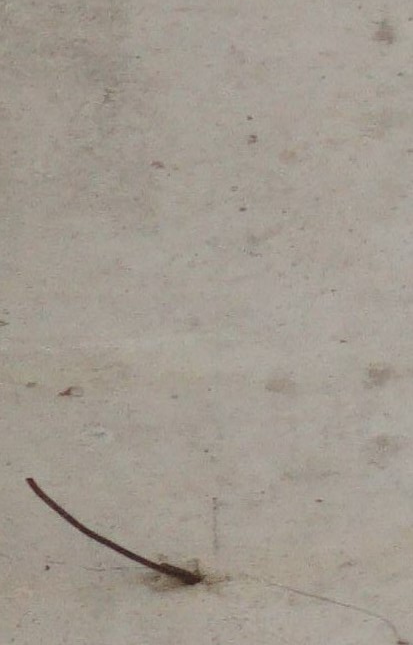Crack: (260, 578, 395, 637)
Exposed reinforcement: (24, 477, 201, 586)
